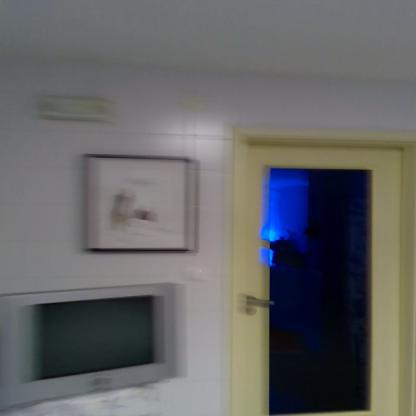door: (248, 146, 405, 416)
lever: (246, 296, 282, 310)
